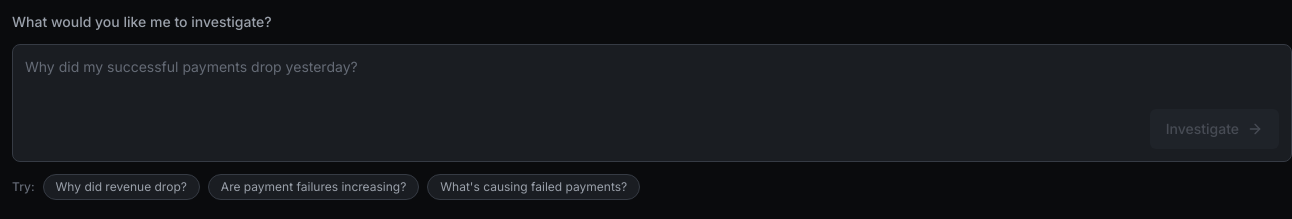
Test: QuestionForm › fills the question when a suggestion chip is clicked
Click the button "Why did revenue drop?": x=121, y=187 x1=42 y1=174 x2=200 y2=200
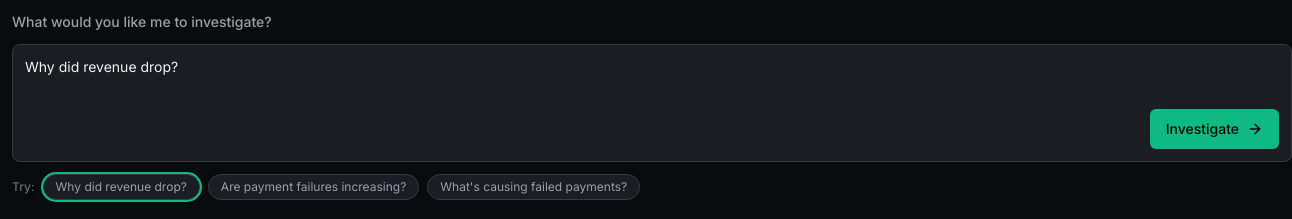
Check: the text box labelled "What would you like me to investigate?" holds "Why did revenue drop?", box x1=25 y1=57 x2=1279 y2=97
